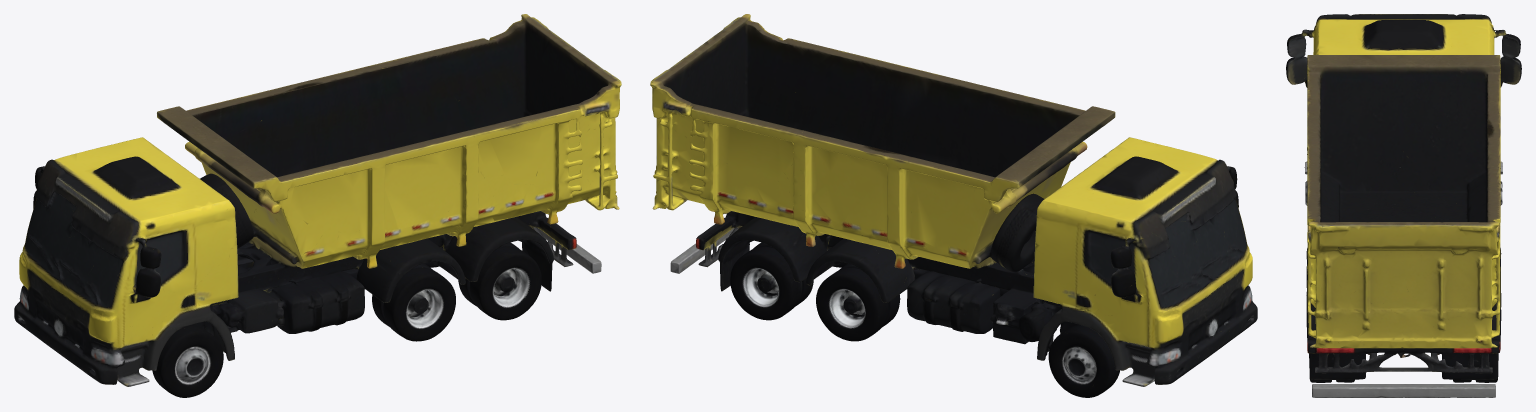
The model's file is rodogreen-dump-truck.glb.
3 renders of one model, left to right at view 1: azimuth 30°, elevation 25°; view 2: azimuth 150°, elevation 25°; view 3: azimuth 270°, elevation 25°, orthographic.
Visible parts, largest first — view 1: mesh_node; view 2: mesh_node; view 3: mesh_node.
Part boxes in pixels (x1,y1,x2,y2): mesh_node: (14, 14, 621, 397); mesh_node: (650, 14, 1257, 397); mesh_node: (1286, 14, 1521, 397).
Size of the model in its own units: 1.9 by 0.7324 by 0.7502.
1 material, 1 textured.
